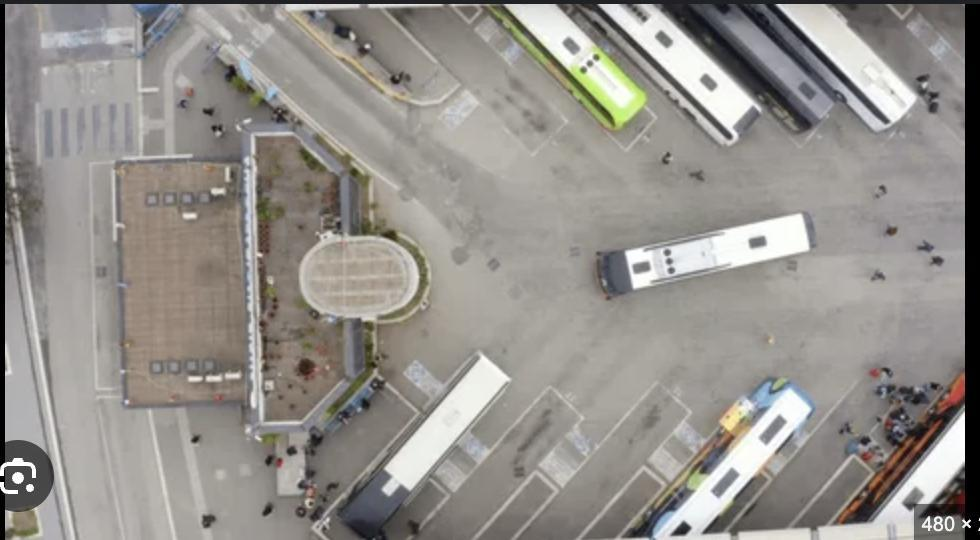Bus: (341, 352, 511, 538), (630, 377, 816, 538), (581, 3, 758, 144), (596, 206, 826, 308), (489, 6, 645, 130), (773, 4, 915, 130), (691, 6, 833, 126)
